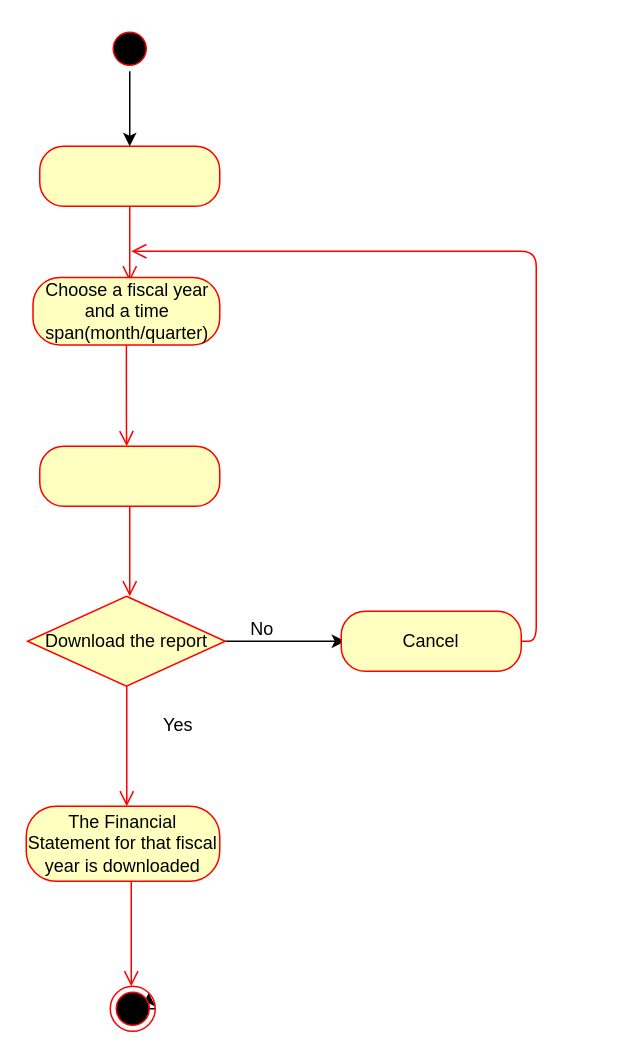
Some shapes in this 624 by 1058 pixel diagram are drawn without their labels. Each missing label, with the box of its shape:
Generate a Financial Statement: (38, 445, 220, 506)
Go to Accounting Reports: (38, 145, 220, 206)
